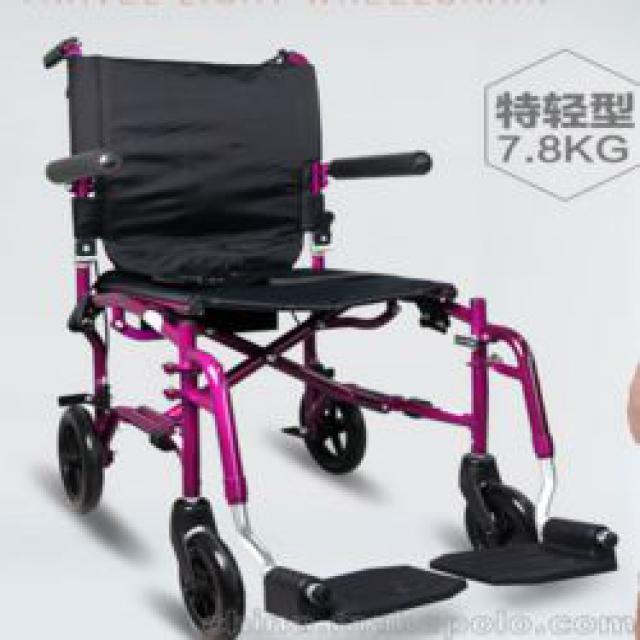wheelchair: (16, 34, 610, 616)
